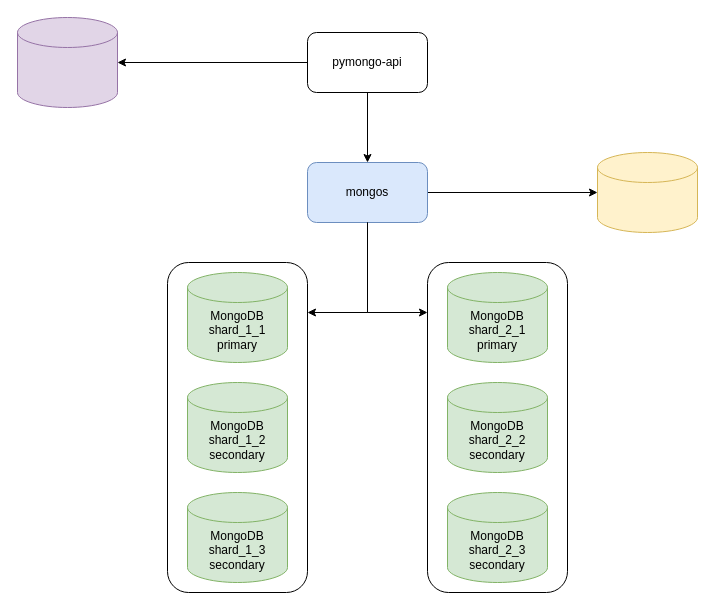
The diagram is 715 pixels wide and 610 high, and some of its shapes have lost their labels. Each missing label, with the centre of its shape:
"configSrv" goes at [647,192].
"Redis (cache)" goes at [67,62].
